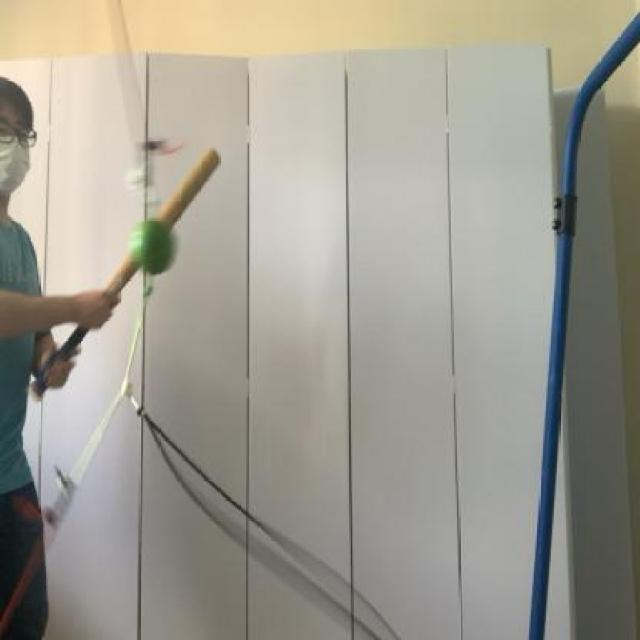baseball: (123, 216, 191, 281)
